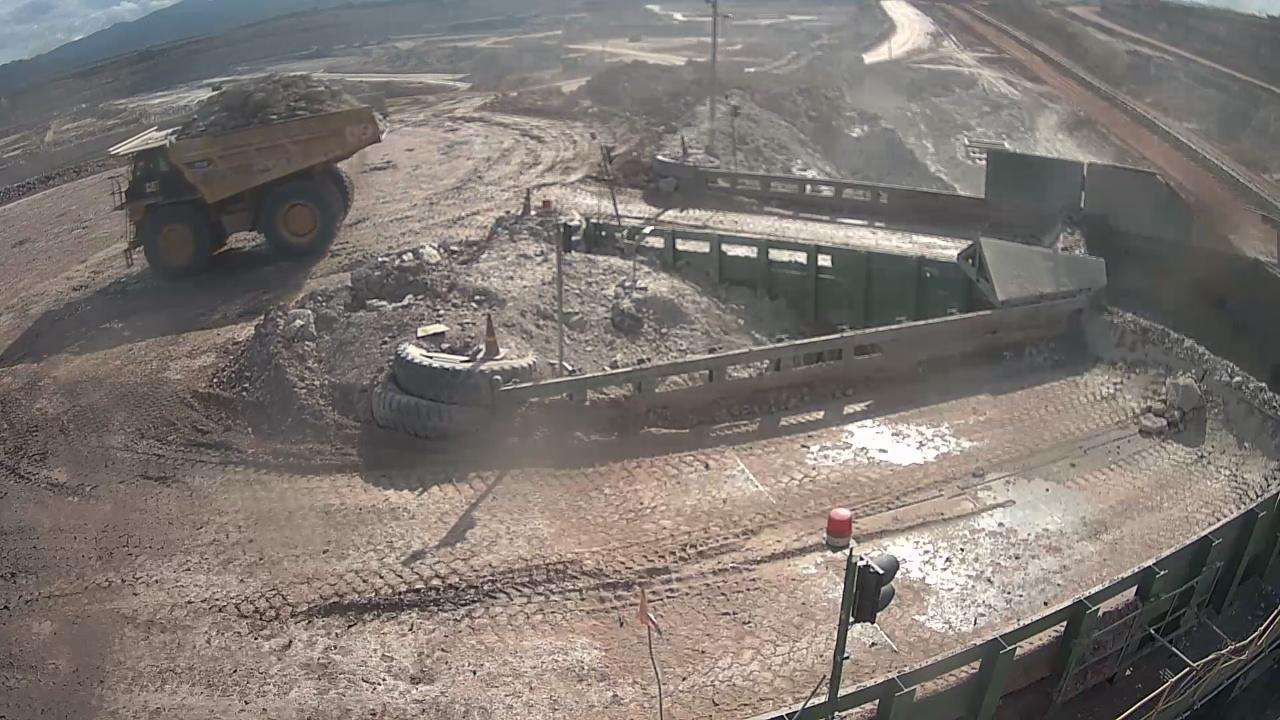mining_truck: (104, 70, 385, 279)
